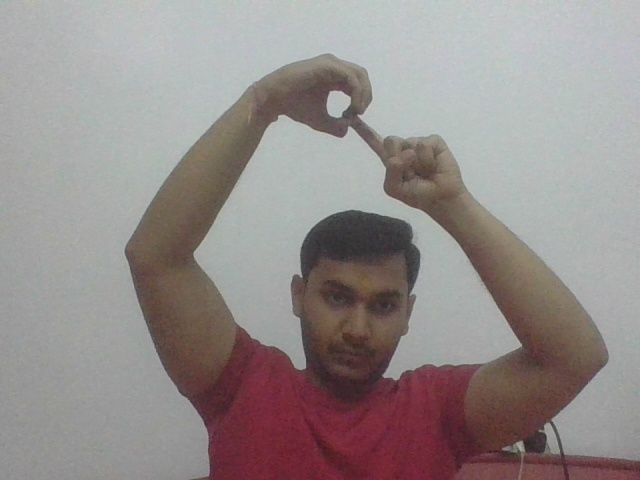Q: (286, 52, 433, 193)
